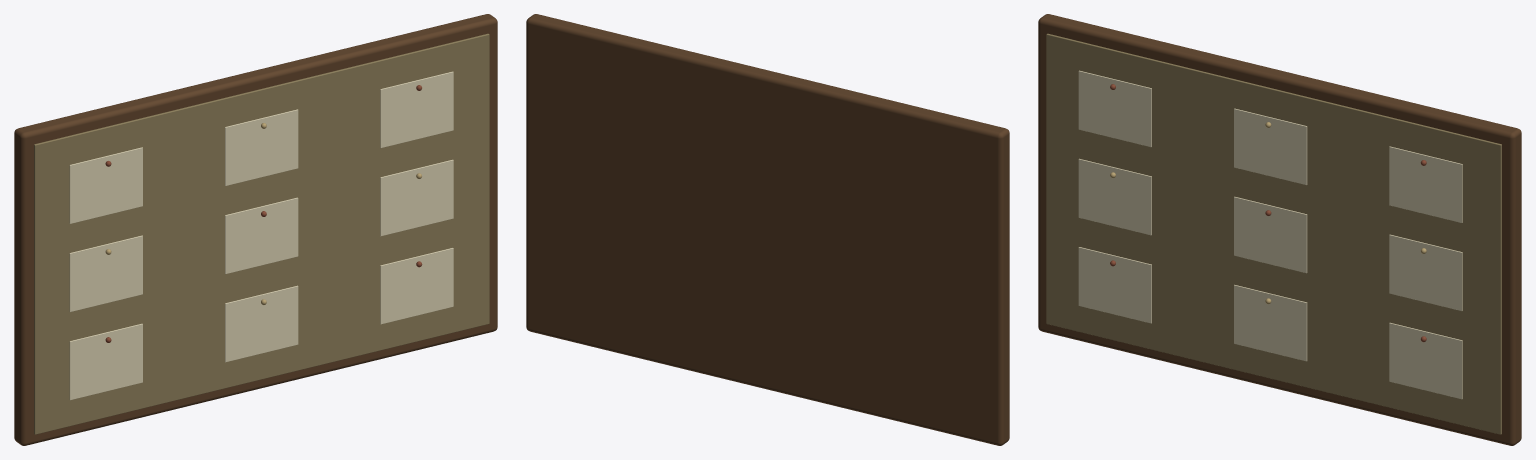
The model's file is board.glb.
3 renders of one model, left to right at view 1: azimuth 30°, elevation 25°; view 2: azimuth 150°, elevation 25°; view 3: azimuth 330°, elevation 25°, orthographic.
Parts seen in each view (by area): view 1: cork, board; view 2: board; view 3: cork, board.
Part boxes in pixels (x1,y1,x2,y2): cork: (34, 33, 489, 434); board: (14, 14, 497, 445); board: (526, 14, 1009, 445); cork: (1046, 33, 1501, 434); board: (1038, 14, 1521, 445).
Size of the model in its own units: 2.55 by 1.6 by 0.149.
